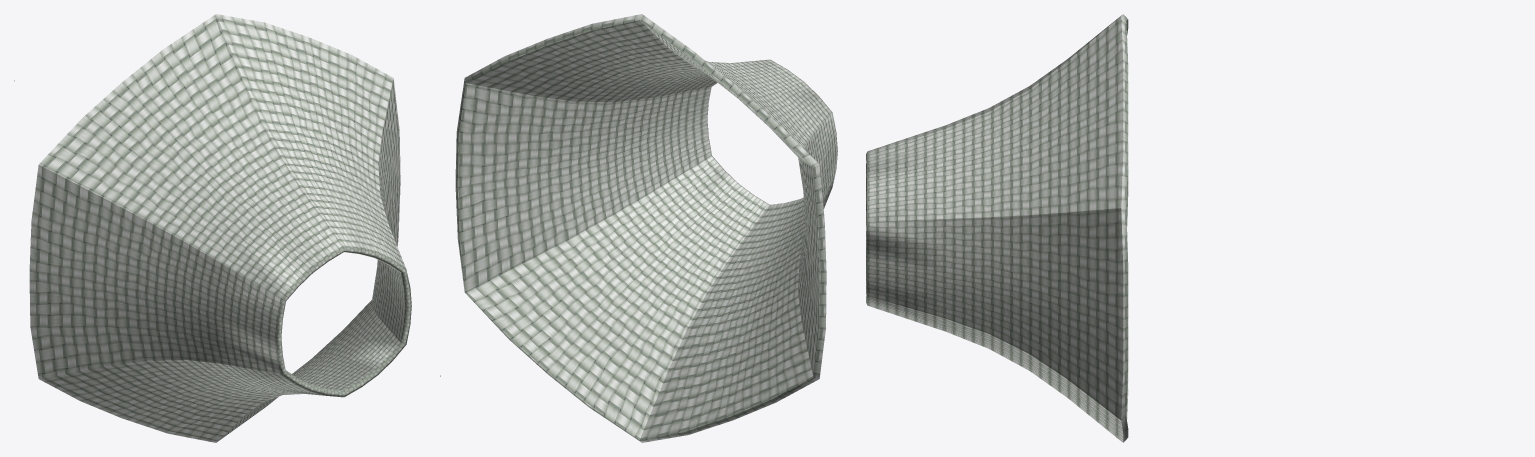
Rendered from MeshDeskLamp_2_0_GeomSubset_2.obj.
3 renders of one model, left to right at view 1: azimuth 30°, elevation 25°; view 2: azimuth 150°, elevation 25°; view 3: azimuth 270°, elevation 25°, orthographic.
Visible parts, largest first — view 1: MeshDeskLamp_2_0_GeomSubset_2; view 2: MeshDeskLamp_2_0_GeomSubset_2; view 3: MeshDeskLamp_2_0_GeomSubset_2.
Boxes of the visible parts, x1=… form: MeshDeskLamp_2_0_GeomSubset_2: x1=14, y1=14, x2=411, y2=442; MeshDeskLamp_2_0_GeomSubset_2: x1=440, y1=14, x2=837, y2=442; MeshDeskLamp_2_0_GeomSubset_2: x1=866, y1=14, x2=1128, y2=442.
Size of the model in its own units: 0.2567 by 0.2836 by 0.396.
Materials: 1 (1 with a texture image).
